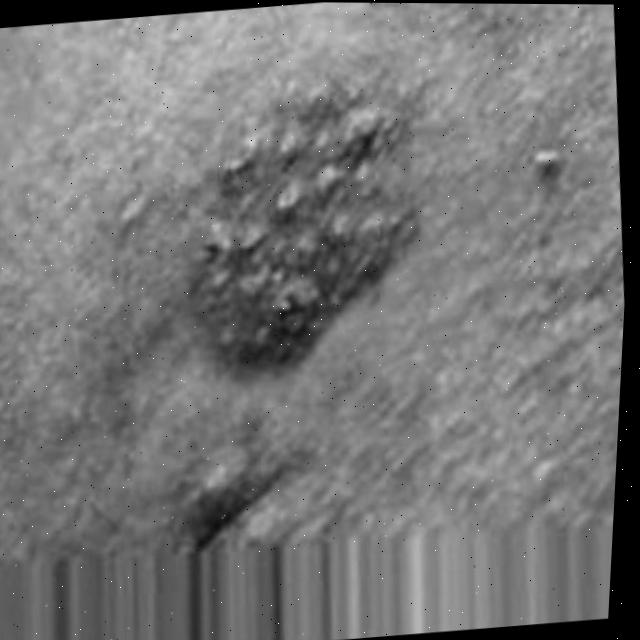Shingles: (171, 77, 449, 378)
